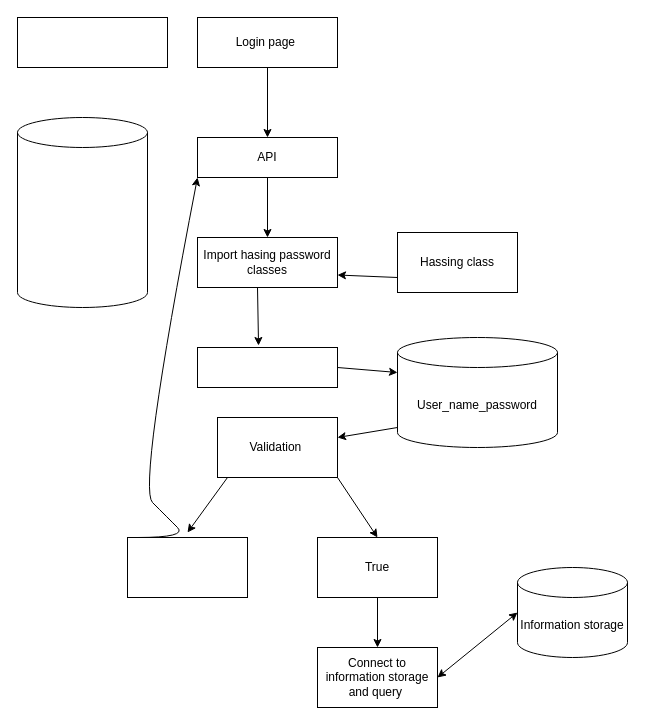
This 645x725 diagram has some shape labels left out. Each missing label, with the centre of its shape:
Connect to User_name_password DB: the point at 267,367
false: the point at 187,567
Sign up: the point at 92,42
User_information Name adress phone number additional inforation: the point at 82,212
